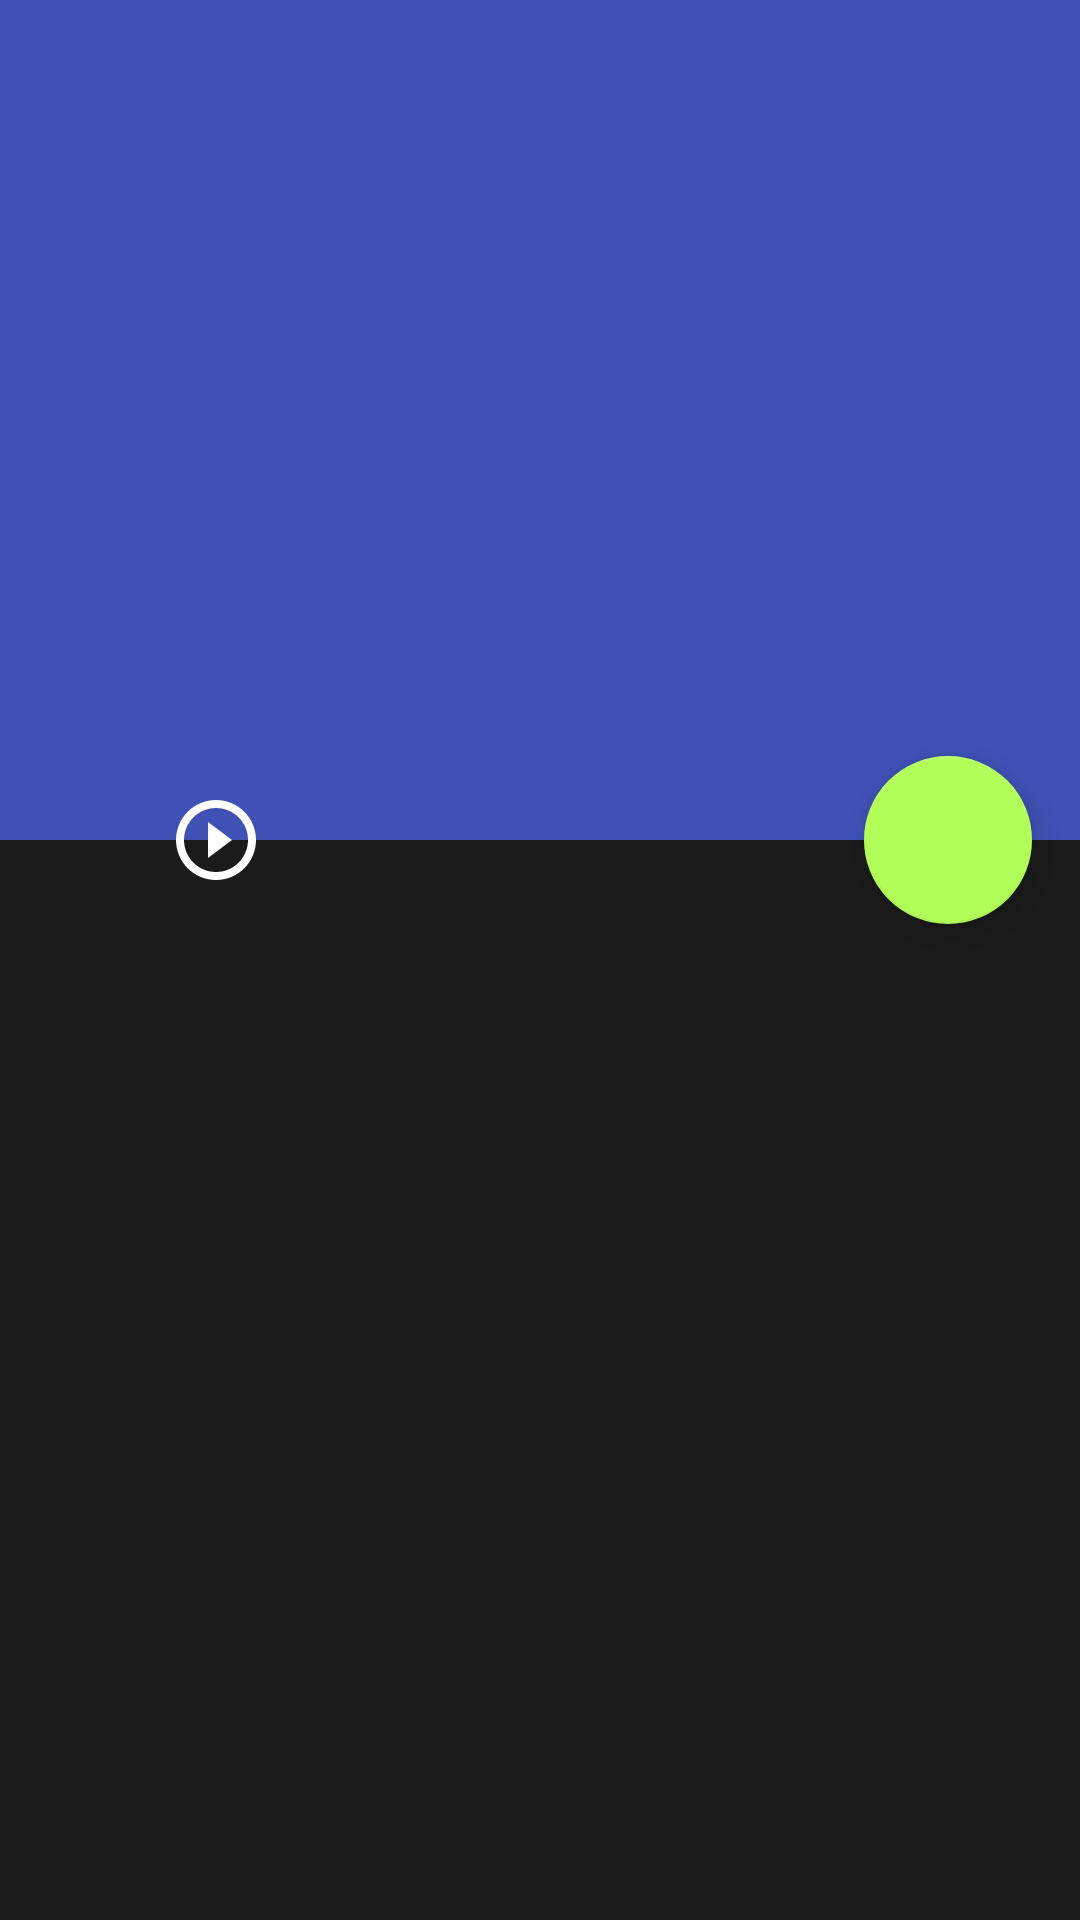

Icon click points for this 1080*1920 phone screenshot, format point (x, y):
play circle: point (216, 840)
